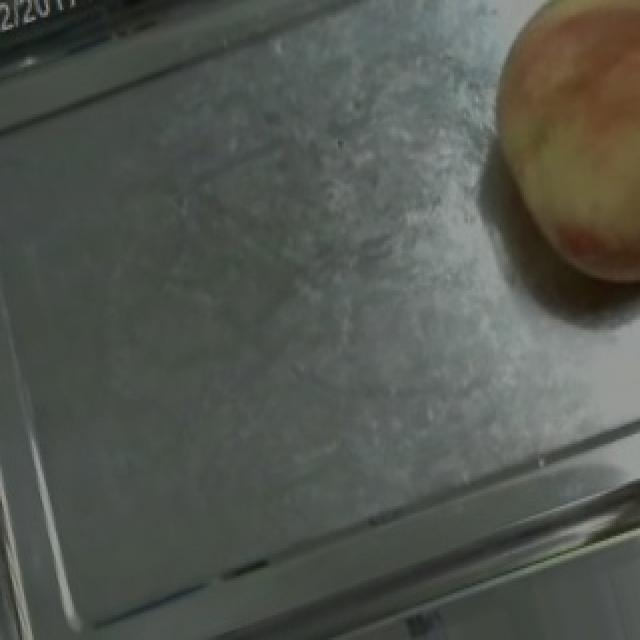Fruit: (454, 0, 640, 322)
